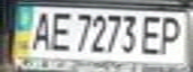2: (90, 11, 109, 54)
3: (121, 12, 142, 55)
7: (69, 10, 93, 53), (106, 11, 124, 54)
A: (24, 8, 54, 52)
E: (45, 8, 75, 53), (139, 12, 166, 56)
P: (157, 14, 190, 56)
